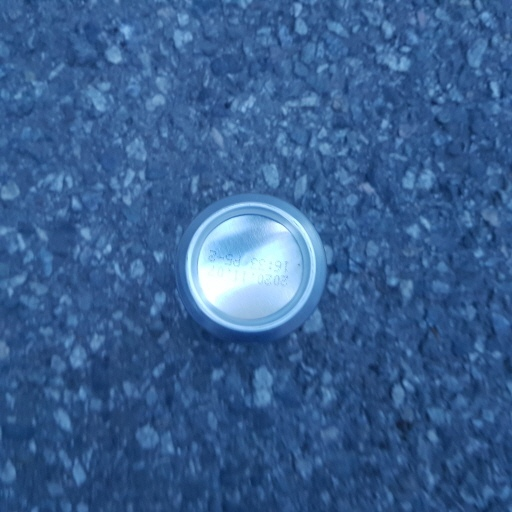Metal_0: (174, 194, 331, 351)
